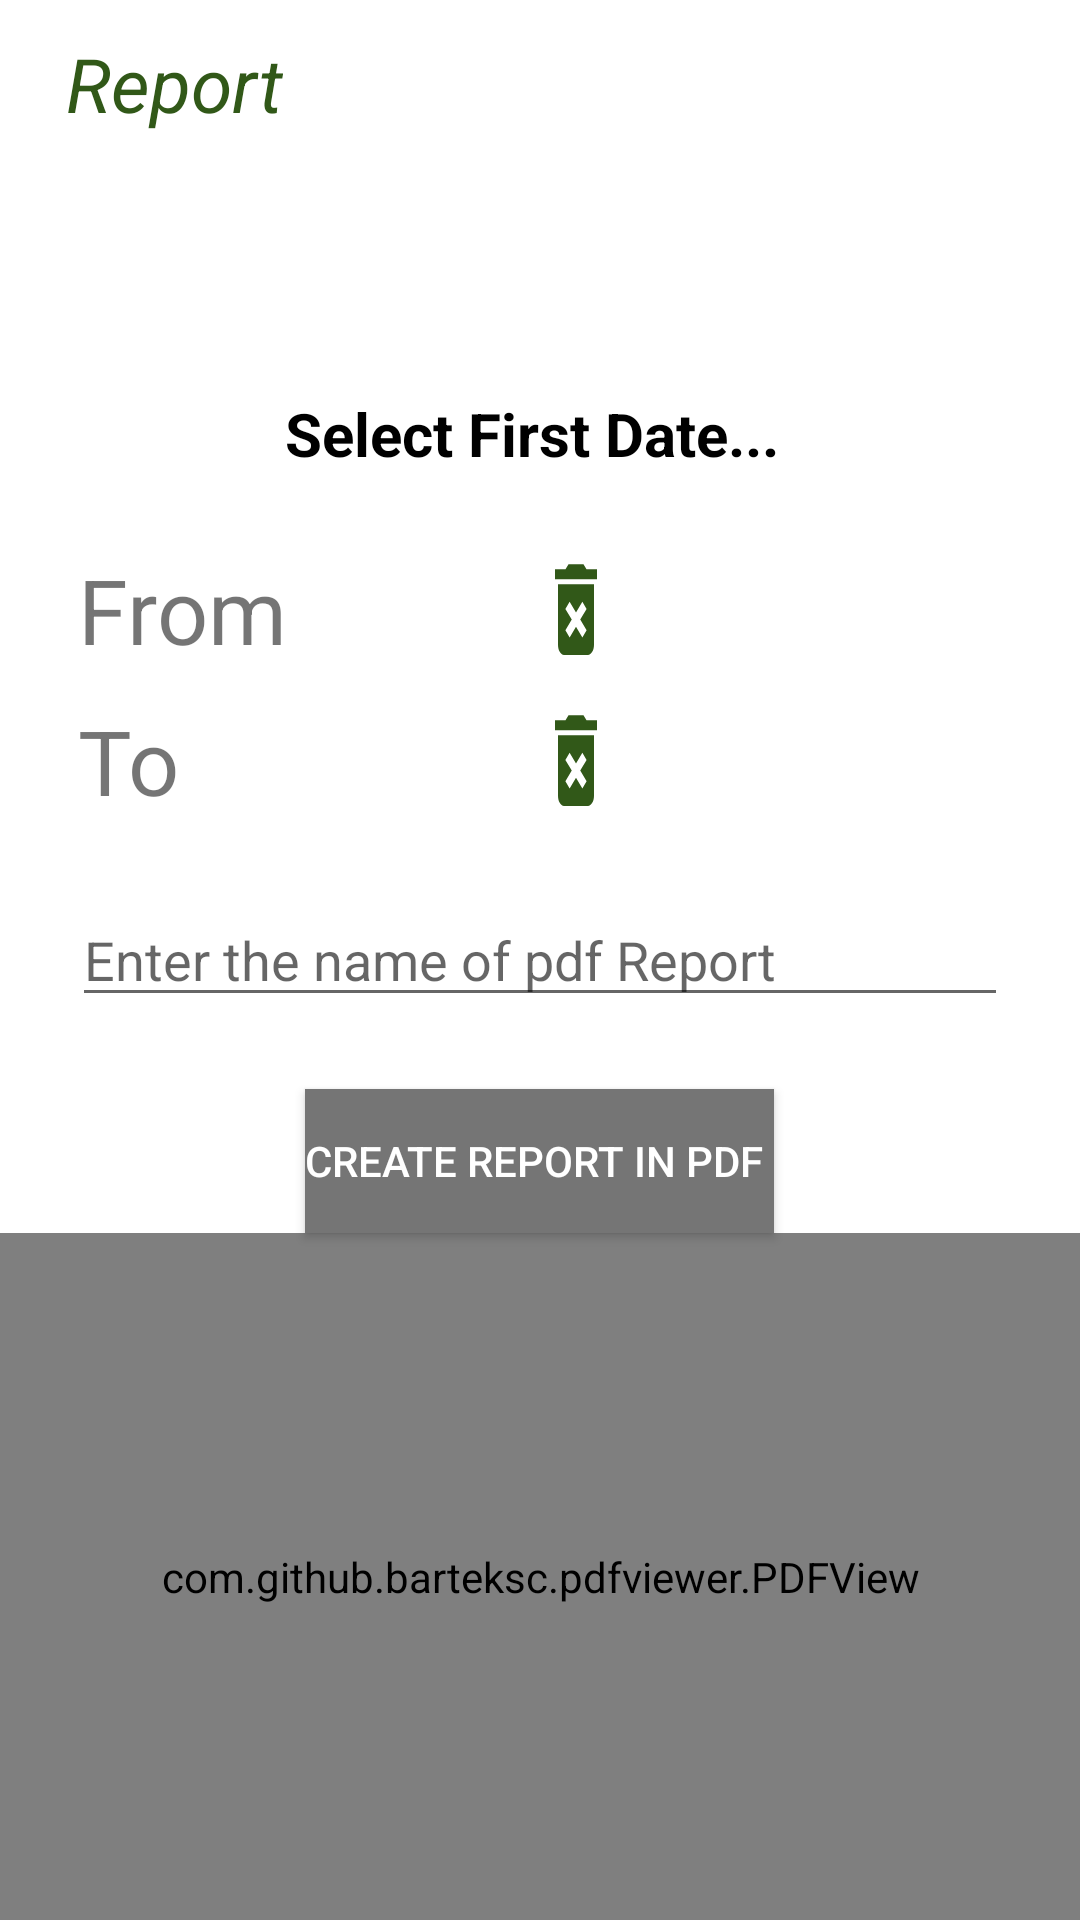

Screen size 1080 x 1920. Icon name, then its center in pixels as [x,y]:
delete forever: [576,609], [576,760]
